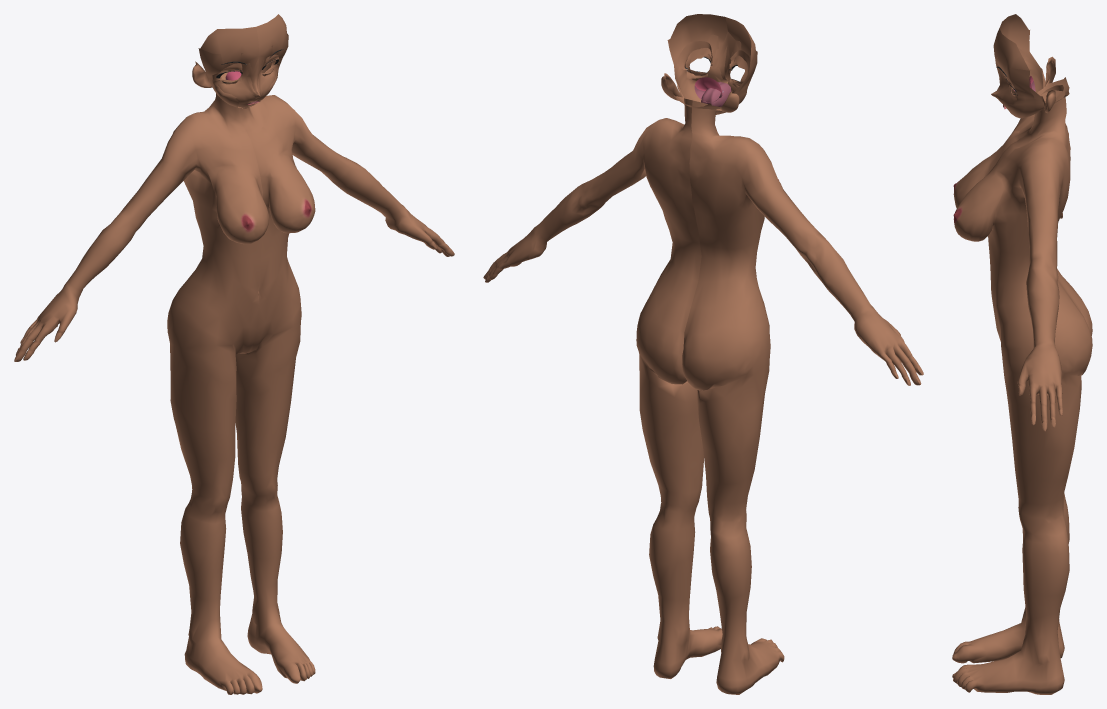
File: Dark Skin 1.fbx
The picture shows the model from 3 angles, left to right: view 1: azimuth 30°, elevation 25°; view 2: azimuth 150°, elevation 25°; view 3: azimuth 270°, elevation 25°; orthographic projection.
Parts seen in each view (by area): view 1: Body_mesh; view 2: Body_mesh; view 3: Body_mesh.
Part boxes in pixels (box(x1,y1,x2,y2)): Body_mesh: box(14, 14, 454, 694); Body_mesh: box(483, 14, 923, 694); Body_mesh: box(952, 14, 1092, 694).
Bounding box in the file's own units: 108 × 154 × 30.13.
Materials: 6 (4 with a texture image).
